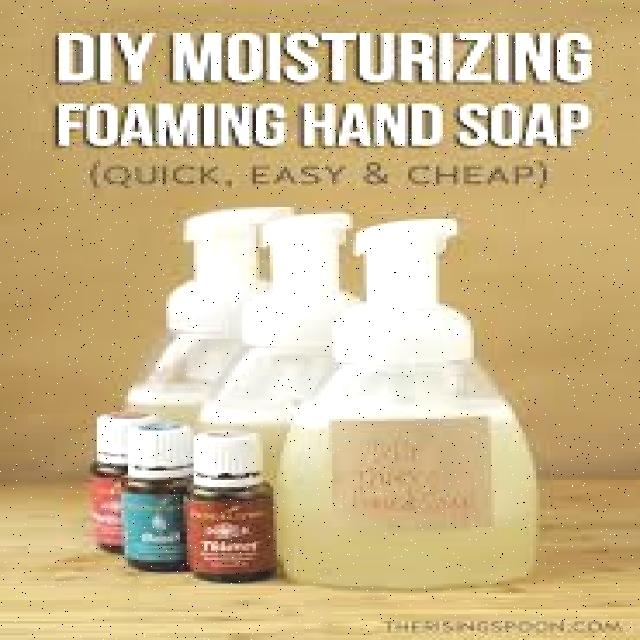liquid soap: (284, 210, 546, 605), (190, 213, 376, 472), (116, 203, 274, 432)
